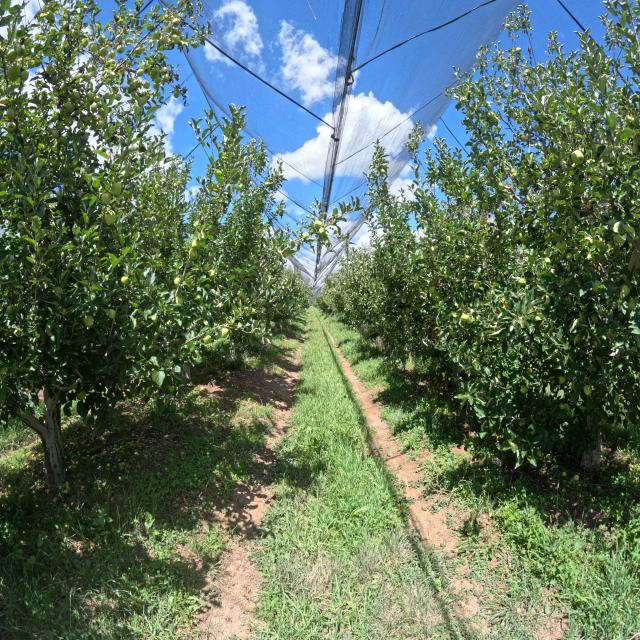-FireBlight-: (418, 315, 444, 343), (578, 200, 598, 220)
